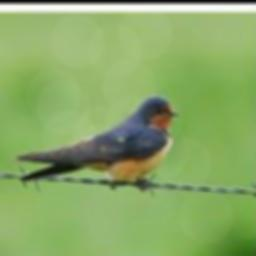Swallow: (17, 96, 180, 183)
